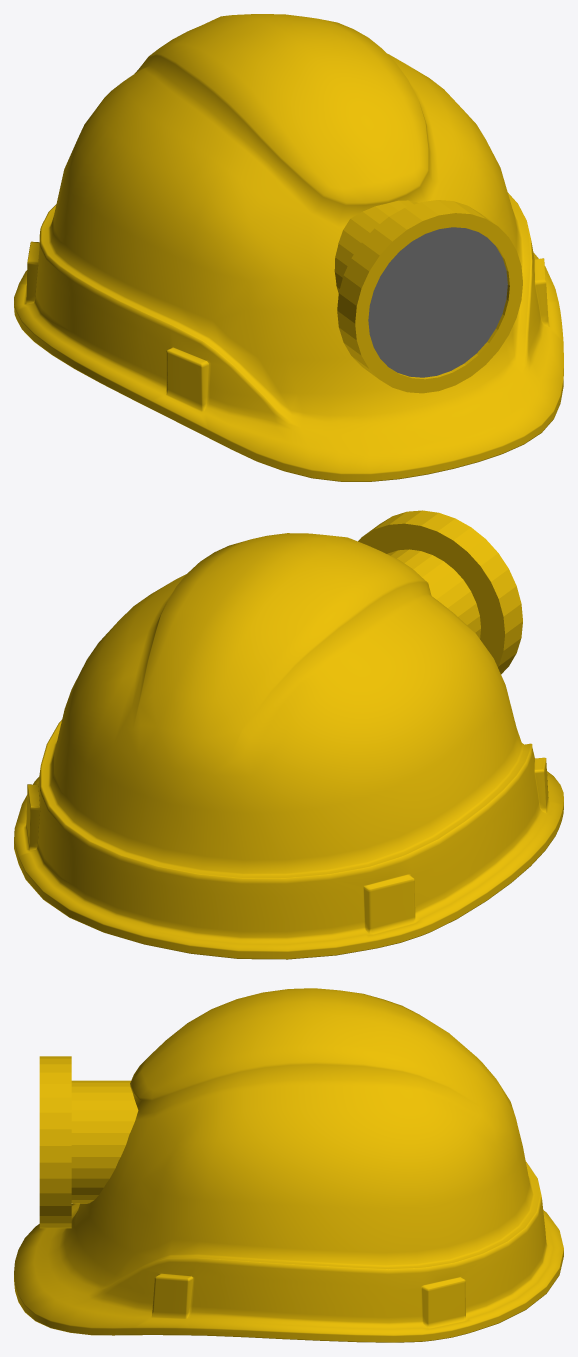
Rendered from Kaciga.fbx.
The picture shows the model from 3 angles, top to bottom: view 1: azimuth 30°, elevation 25°; view 2: azimuth 150°, elevation 25°; view 3: azimuth 270°, elevation 25°; orthographic projection. The views are drawn at different scales.
Visible parts, largest first — view 1: helmet.001, Cylinder; view 2: helmet.001, Cylinder; view 3: helmet.001, Cylinder.
Part boxes in pixels (bbox=[...]): helmet.001: bbox=[14, 14, 563, 481]; Cylinder: bbox=[334, 200, 522, 393]; helmet.001: bbox=[14, 533, 563, 959]; Cylinder: bbox=[358, 510, 522, 674]; helmet.001: bbox=[14, 988, 563, 1342]; Cylinder: bbox=[39, 1056, 138, 1228].
Size of the model in its own units: 410 by 267 by 479.
